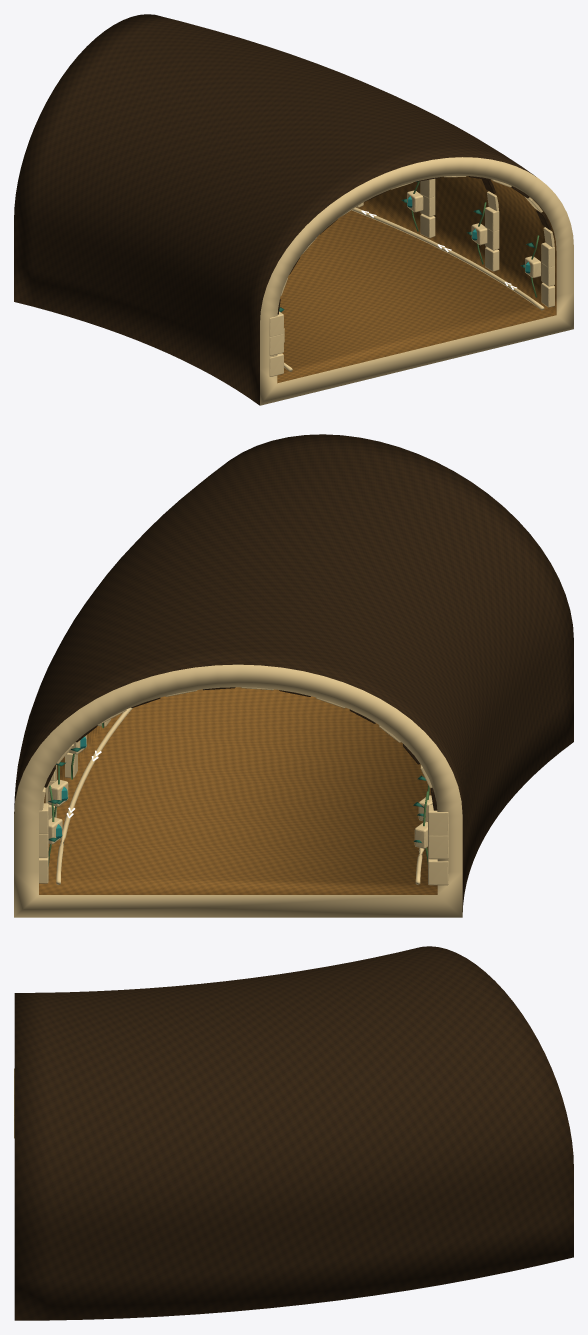
Rendered from curve_left_30.glb.
3 views of the same model, one above another, from view 1: azimuth 30°, elevation 25°; view 2: azimuth 150°, elevation 25°; view 3: azimuth 270°, elevation 25° (orthographic). The views are drawn at different scales.
Visible parts, largest first — view 1: TunnelGeometry; view 2: TunnelGeometry; view 3: TunnelGeometry.
Boxes of the visible parts, x1=… form: TunnelGeometry: x1=14, y1=14, x2=573, y2=405; TunnelGeometry: x1=14, y1=434, x2=573, y2=917; TunnelGeometry: x1=14, y1=946, x2=573, y2=1320.
Bounding box in the file's own units: 19.1 × 9.52 × 21.85.
Materials: 7 (2 with a texture image).
